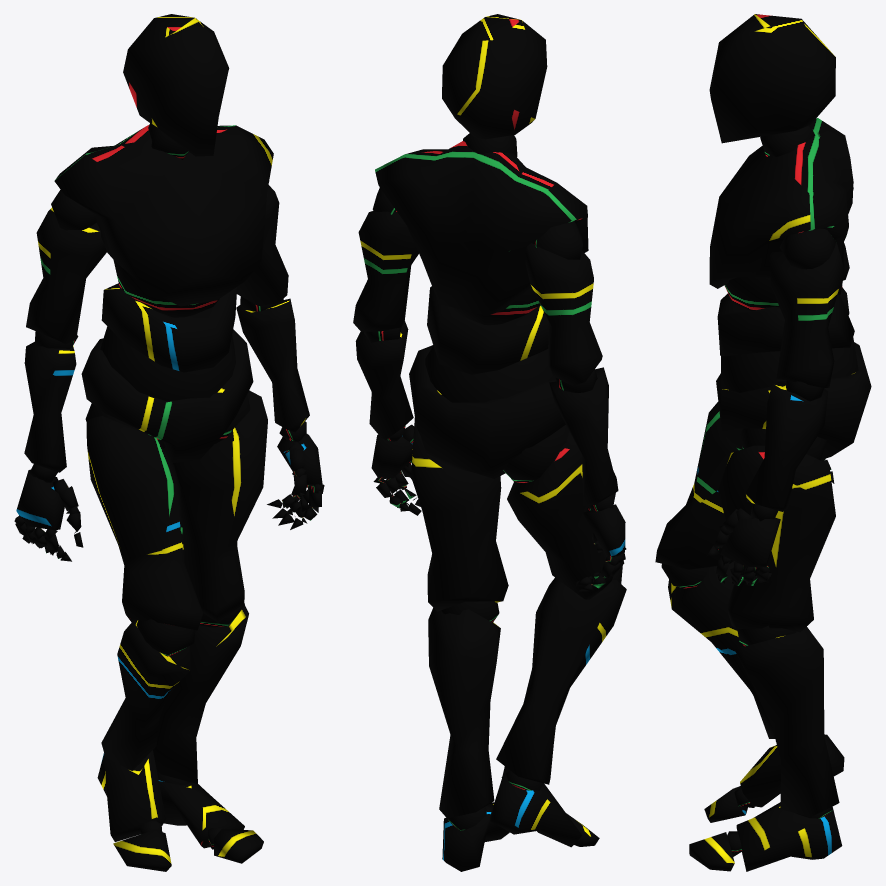
The model's file is y-bot-origin_000028.obj.
3 views of the same model, side by side, from view 1: azimuth 30°, elevation 25°; view 2: azimuth 150°, elevation 25°; view 3: azimuth 270°, elevation 25° (orthographic).
Parts seen in each view (by area): view 1: Alpha_Surface_Alpha_SurfaceMesh, Alpha_Joints_Alpha_JointsMesh; view 2: Alpha_Surface_Alpha_SurfaceMesh, Alpha_Joints_Alpha_JointsMesh; view 3: Alpha_Surface_Alpha_SurfaceMesh, Alpha_Joints_Alpha_JointsMesh.
Boxes of the visible parts, box(x1,y1,x2,y2) form: Alpha_Surface_Alpha_SurfaceMesh: box(15, 14, 322, 871); Alpha_Joints_Alpha_JointsMesh: box(14, 123, 324, 849); Alpha_Surface_Alpha_SurfaceMesh: box(353, 14, 626, 871); Alpha_Joints_Alpha_JointsMesh: box(364, 133, 626, 830); Alpha_Surface_Alpha_SurfaceMesh: box(655, 14, 871, 871); Alpha_Joints_Alpha_JointsMesh: box(661, 125, 858, 856).
Bounding box in the file's own units: 0.6167 × 1.8 × 0.4228.
